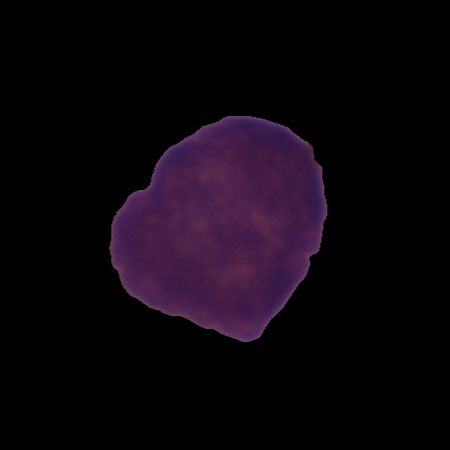HEM: (107, 112, 331, 345)
